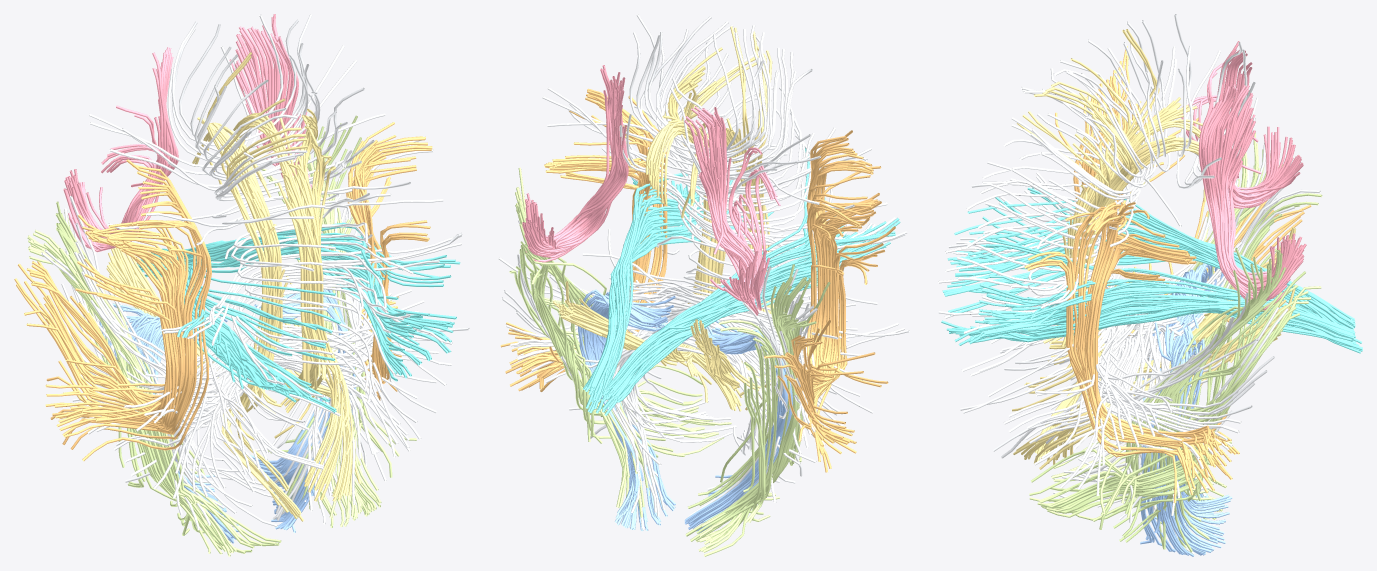
File: hcp1065-tract-tubes.glb
The picture shows the model from 3 angles, left to right: view 1: azimuth 30°, elevation 25°; view 2: azimuth 150°, elevation 25°; view 3: azimuth 270°, elevation 25°; orthographic projection. The views are drawn at different scales.
Parts seen in each view (by area): view 1: corpus, arcuate, cingulum, corticospinal, ilf, uncinate, optic; view 2: corpus, arcuate, ilf, corticospinal, uncinate, cingulum, optic; view 3: corpus, corticospinal, ilf, arcuate, cingulum, uncinate, optic.
Boxes of the visible parts, left/top/right/bottom form: corpus: left=41, top=14, right=469, bottom=530; arcuate: left=14, top=122, right=432, bottom=461; cingulum: left=106, top=52, right=361, bottom=521; corticospinal: left=137, top=222, right=460, bottom=412; ilf: left=27, top=115, right=416, bottom=556; uncinate: left=63, top=14, right=311, bottom=252; optic: left=99, top=273, right=356, bottom=543; corpus: left=498, top=14, right=909, bottom=529; arcuate: left=500, top=88, right=895, bottom=472; ilf: left=509, top=167, right=830, bottom=556; corticospinal: left=583, top=148, right=900, bottom=415; uncinate: left=522, top=65, right=780, bottom=315; cingulum: left=552, top=26, right=784, bottom=411; optic: left=578, top=289, right=793, bottom=533; corpus: left=938, top=14, right=1320, bottom=554; corticospinal: left=941, top=187, right=1362, bottom=353; ilf: left=1029, top=133, right=1322, bottom=552; arcuate: left=1024, top=46, right=1311, bottom=503; cingulum: left=1012, top=29, right=1295, bottom=469; uncinate: left=1181, top=41, right=1306, bottom=310; optic: left=1140, top=263, right=1232, bottom=556.
Bounding box in the file's own units: 128 × 178 × 134.
